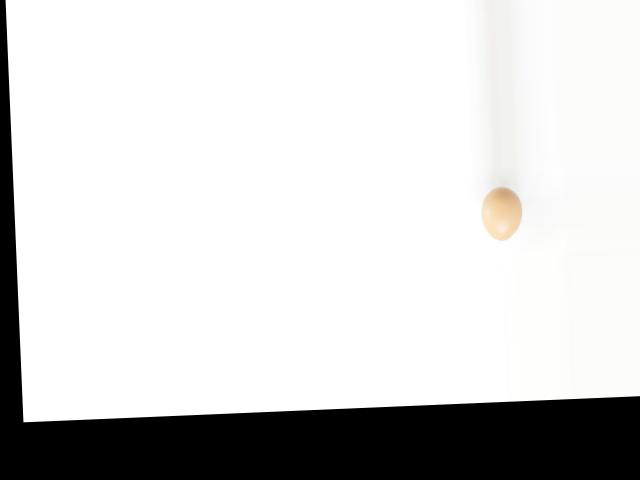egg: (481, 185, 524, 241)
